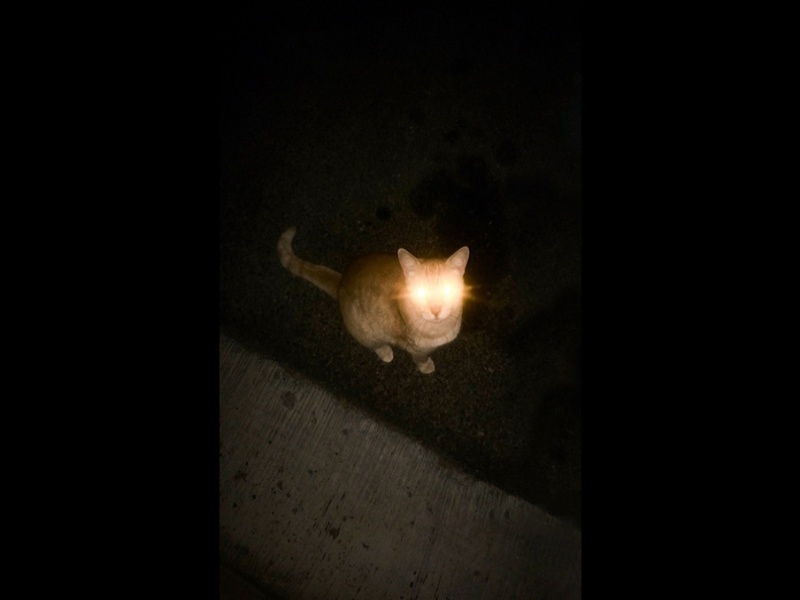cat: (272, 222, 474, 374)
